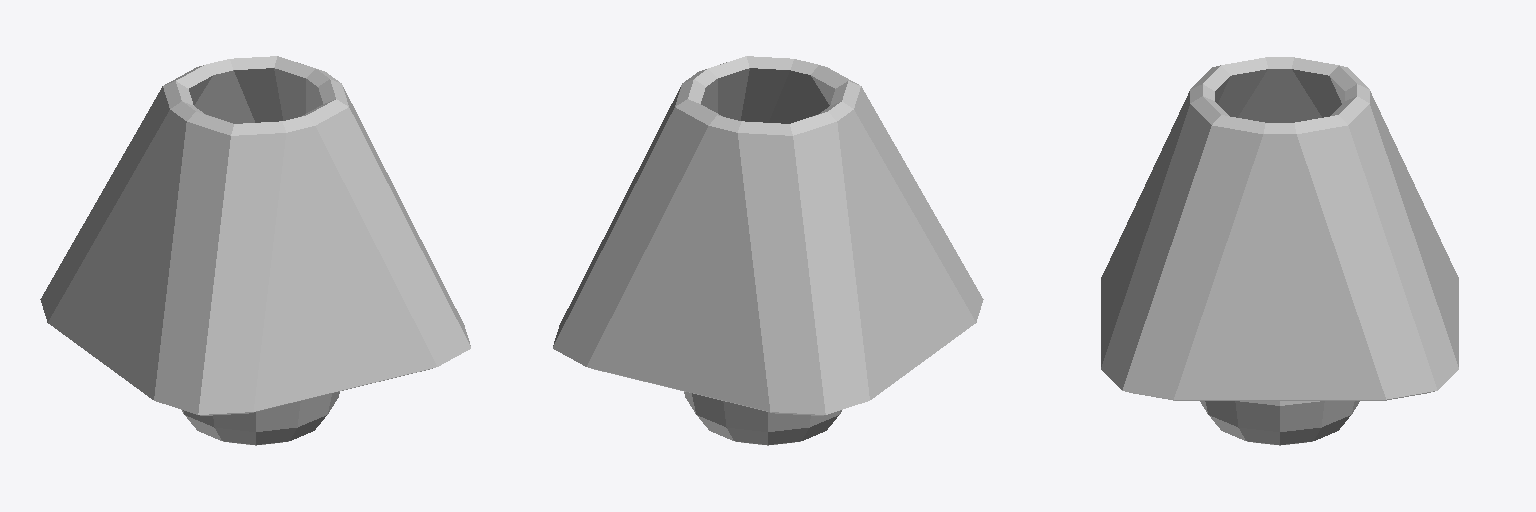
Rendered from lamp_table.obj.
3 renders of one model, left to right at view 1: azimuth 30°, elevation 25°; view 2: azimuth 150°, elevation 25°; view 3: azimuth 270°, elevation 25°, orthographic.
Parts seen in each view (by area): view 1: lamp_table_Sphere.001; view 2: lamp_table_Sphere.001; view 3: lamp_table_Sphere.001.
Part boxes in pixels (left/top/right/bottom): lamp_table_Sphere.001: left=40, top=56, right=470, bottom=445; lamp_table_Sphere.001: left=553, top=56, right=983, bottom=445; lamp_table_Sphere.001: left=1101, top=57, right=1458, bottom=445.
Size of the model in its own units: 1 by 1.02 by 1.